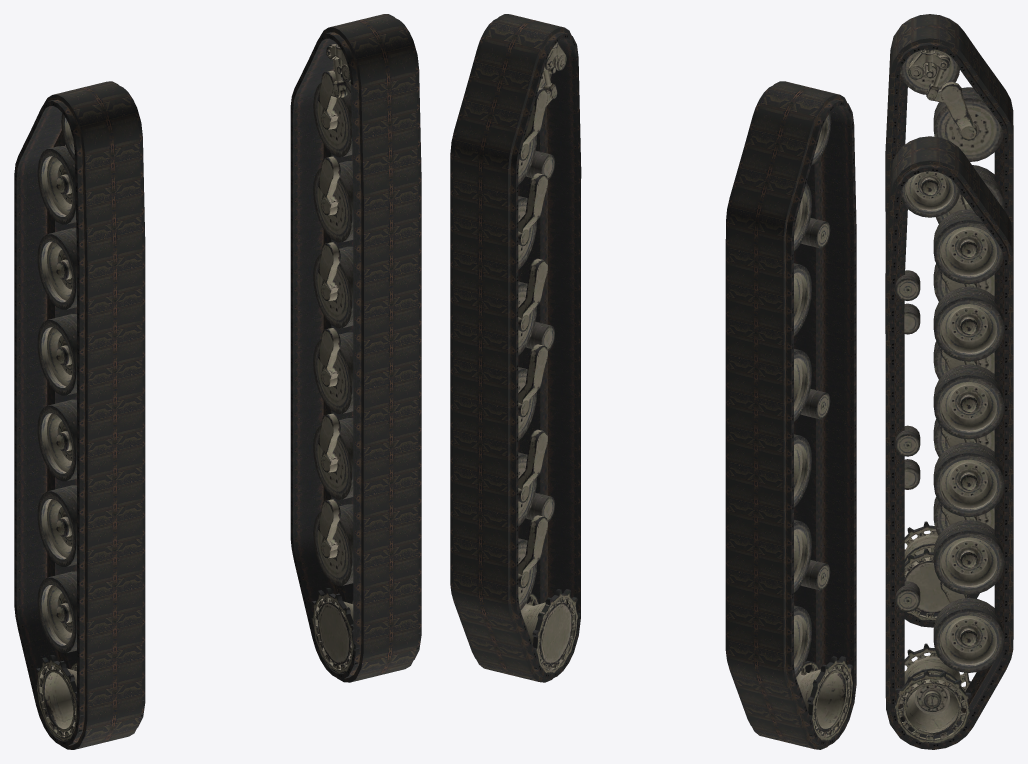
Rendered from Chassis.glb.
3 renders of one model, left to right at view 1: azimuth 30°, elevation 25°; view 2: azimuth 150°, elevation 25°; view 3: azimuth 270°, elevation 25°, orthographic. The views are drawn at different scales.
Visible parts, largest first — view 1: set_0_group_0, set_1_group_0, set_3_group_0, set_2_group_0; view 2: set_0_group_0, set_1_group_0, set_3_group_0, set_2_group_0; view 3: set_3_group_0, set_1_group_0, set_2_group_0, set_0_group_0.
Part boxes in pixels (x1,y1,x2,y2): set_0_group_0: [14, 81, 145, 749]; set_1_group_0: [290, 14, 421, 682]; set_3_group_0: [310, 44, 420, 678]; set_2_group_0: [35, 113, 144, 743]; set_0_group_0: [725, 81, 856, 749]; set_1_group_0: [450, 14, 581, 682]; set_3_group_0: [473, 42, 580, 678]; set_2_group_0: [748, 113, 852, 745]; set_3_group_0: [893, 171, 1004, 743]; set_1_group_0: [885, 136, 1013, 749]; set_2_group_0: [900, 49, 1004, 620]; set_0_group_0: [885, 14, 1013, 627].
Bounding box in the file's own units: 3.63 × 6.6 × 1.3.
4 materials, 4 textured.
